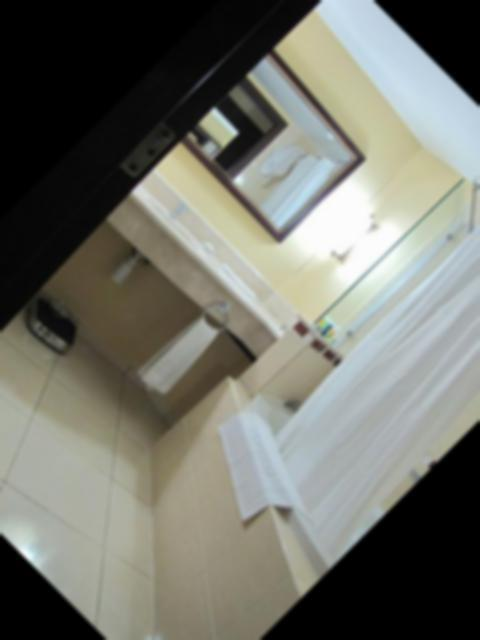Lavamanos: (137, 176, 220, 259)
